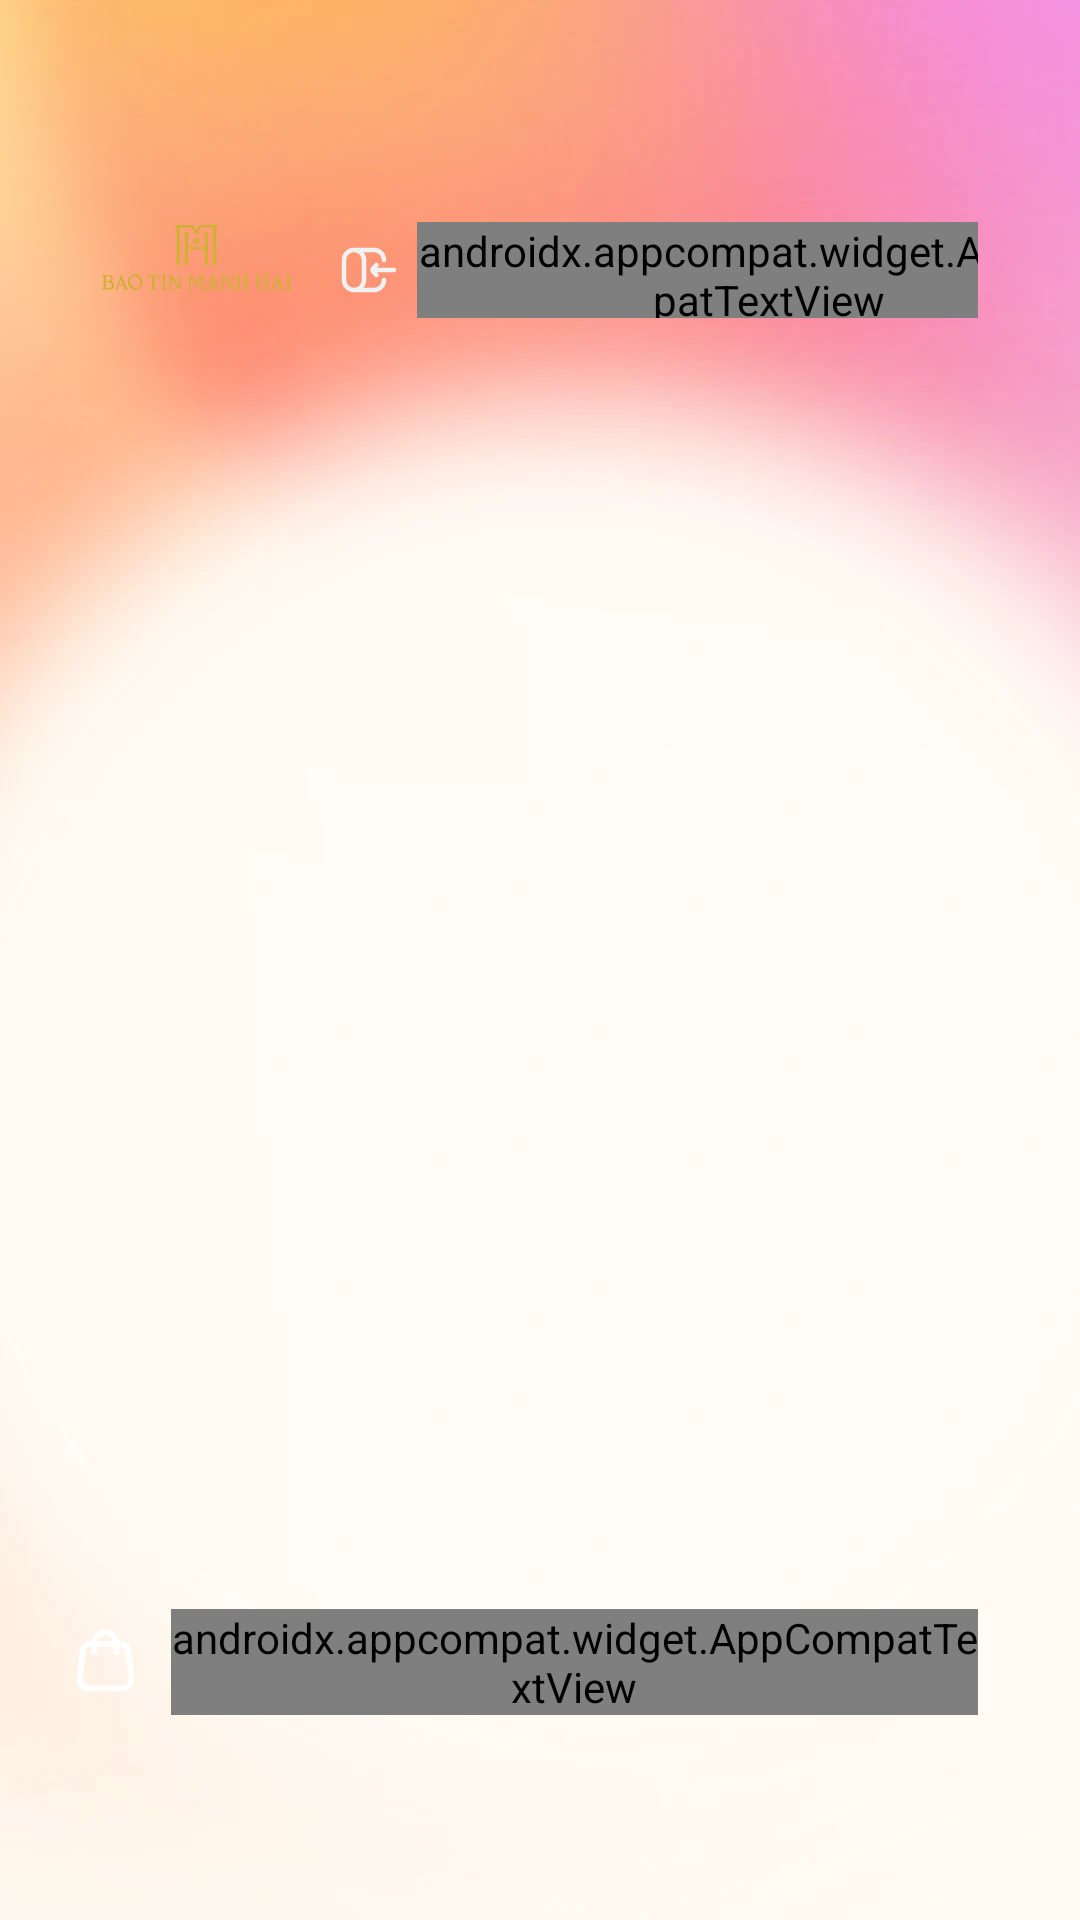

Icons on this 1080w x 1920h Android screen, each with the point to tap as (x,y):
login: (368,270)
